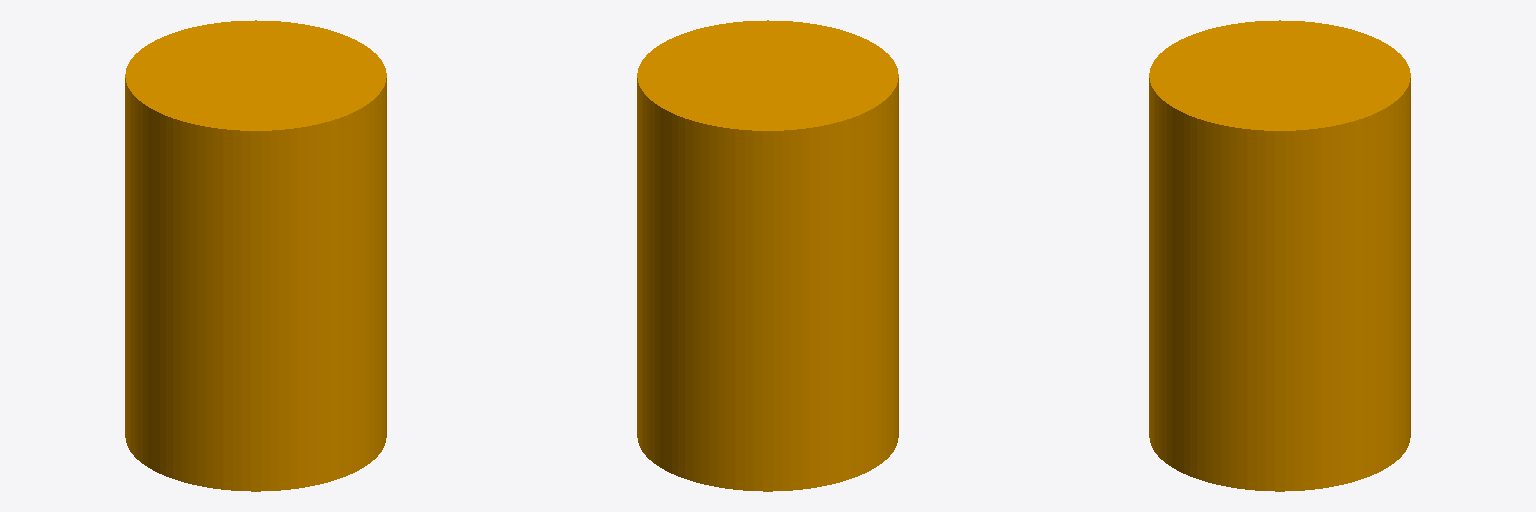
URDF robot description (industreal_round_peg_64mm):
<?xml version="1.0"?>
<robot name="industreal_round_peg_64mm">
    <link name="industreal_round_peg_64mm">
        <visual>
            <geometry>
                <mesh filename="../mesh/industreal_pegs/2in_v1Hard_4.obj"/>
            </geometry>
        </visual>
        <collision>
            <geometry>
                <mesh filename="../mesh/industreal_pegs/2in_v1Hard_4.obj"/>
            </geometry>
            <sdf resolution="256"/>
        </collision>
    </link>
</robot>

--- What the picture shows (computed from the rendered views, not written in the file) ---
3 views of the same robot in one strip: view 1: azimuth 30°, elevation 25°; view 2: azimuth 150°, elevation 25°; view 3: azimuth 270°, elevation 25° (orthographic).
Model industreal_round_peg_64mm with 1 links and 0 joints (none), rooted at industreal_round_peg_64mm, posed all joints at 0.
Visible links, largest first — view 1: industreal_round_peg_64mm; view 2: industreal_round_peg_64mm; view 3: industreal_round_peg_64mm.
Link boxes in pixels (x1=…): industreal_round_peg_64mm: x1=125, y1=20, x2=386, y2=491; industreal_round_peg_64mm: x1=637, y1=20, x2=898, y2=491; industreal_round_peg_64mm: x1=1149, y1=20, x2=1410, y2=491.
Size in the robot's own frame: 0.05 by 0.05 by 0.0762 metres.
Meshes: 1 distinct files referenced, 1 mesh visuals loaded (1 OBJ).